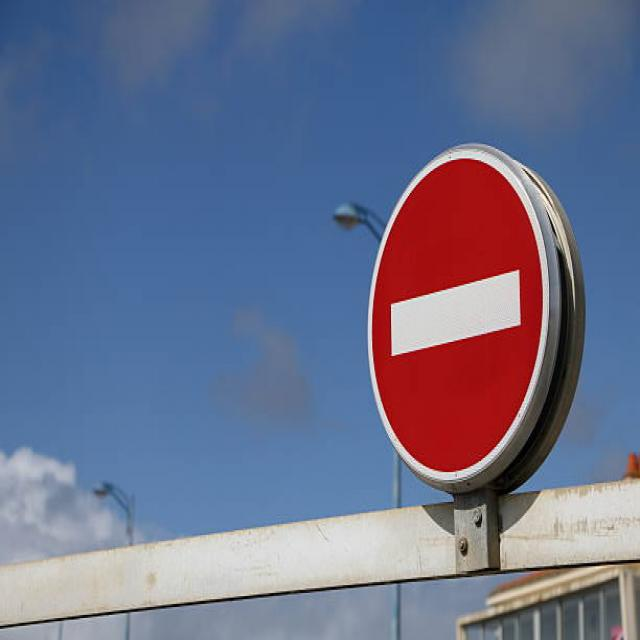do_not_enter: (364, 140, 556, 494)
